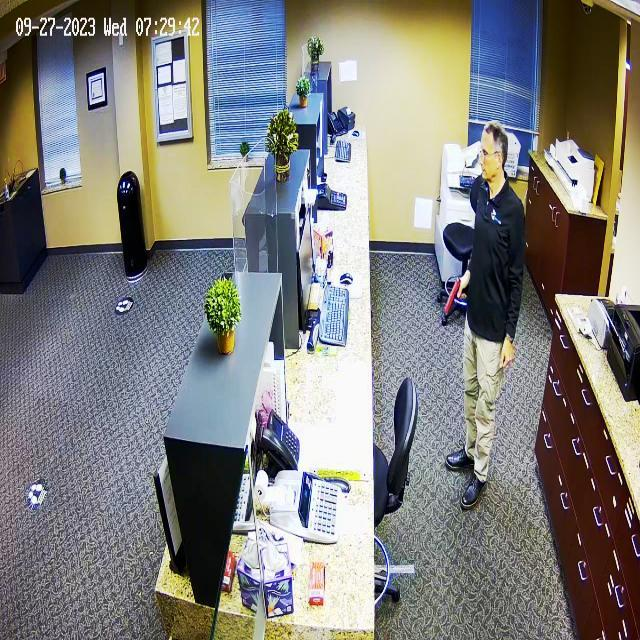Gun: (430, 265, 469, 319)
